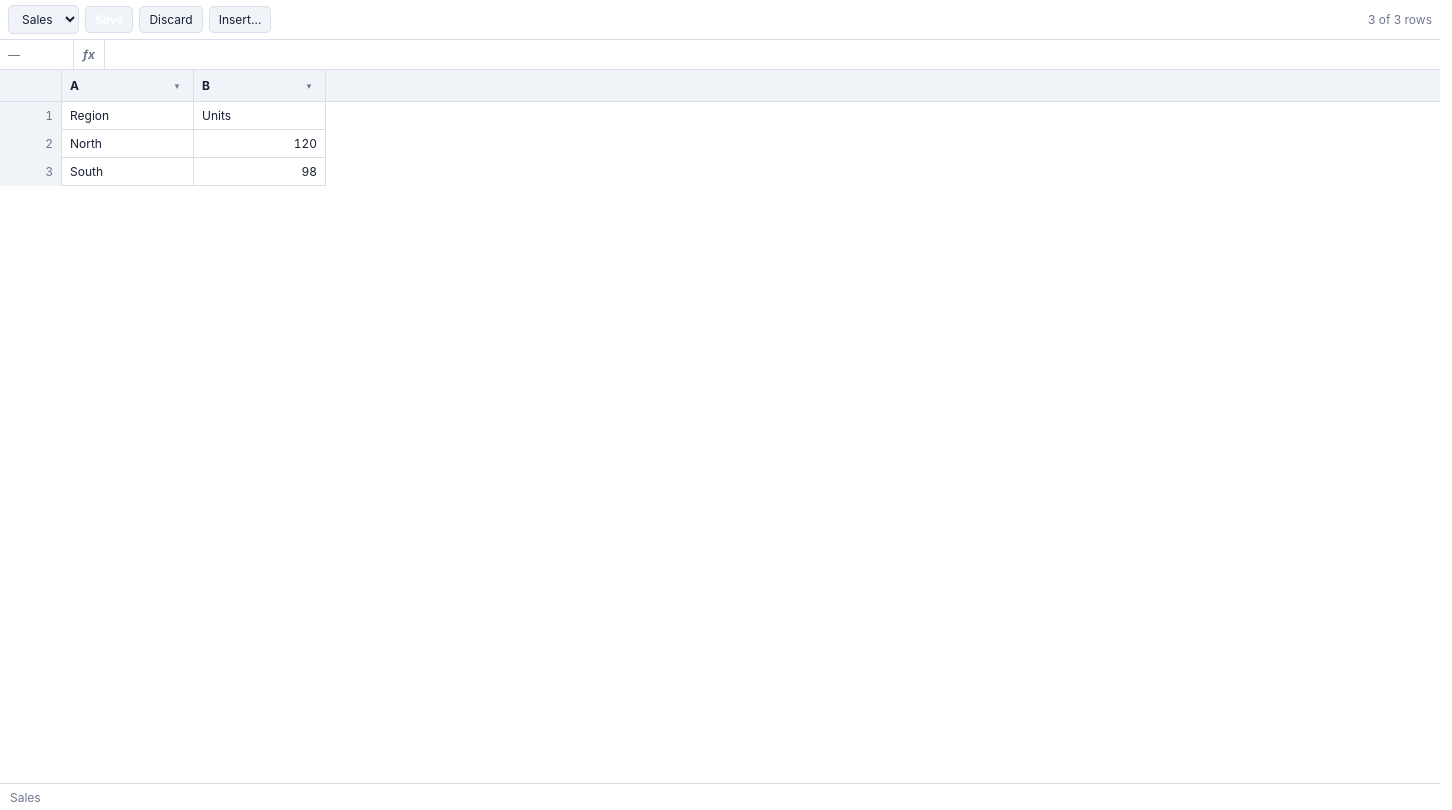
Test: SpreadsheetViewer › starts editing with the typed key without the browser typing it twice
Expected: the text "Region" is shown, left=62, top=102, right=194, bottom=130
Click the text "North".
click(128, 144)  # box left=62, top=130, right=194, bottom=158
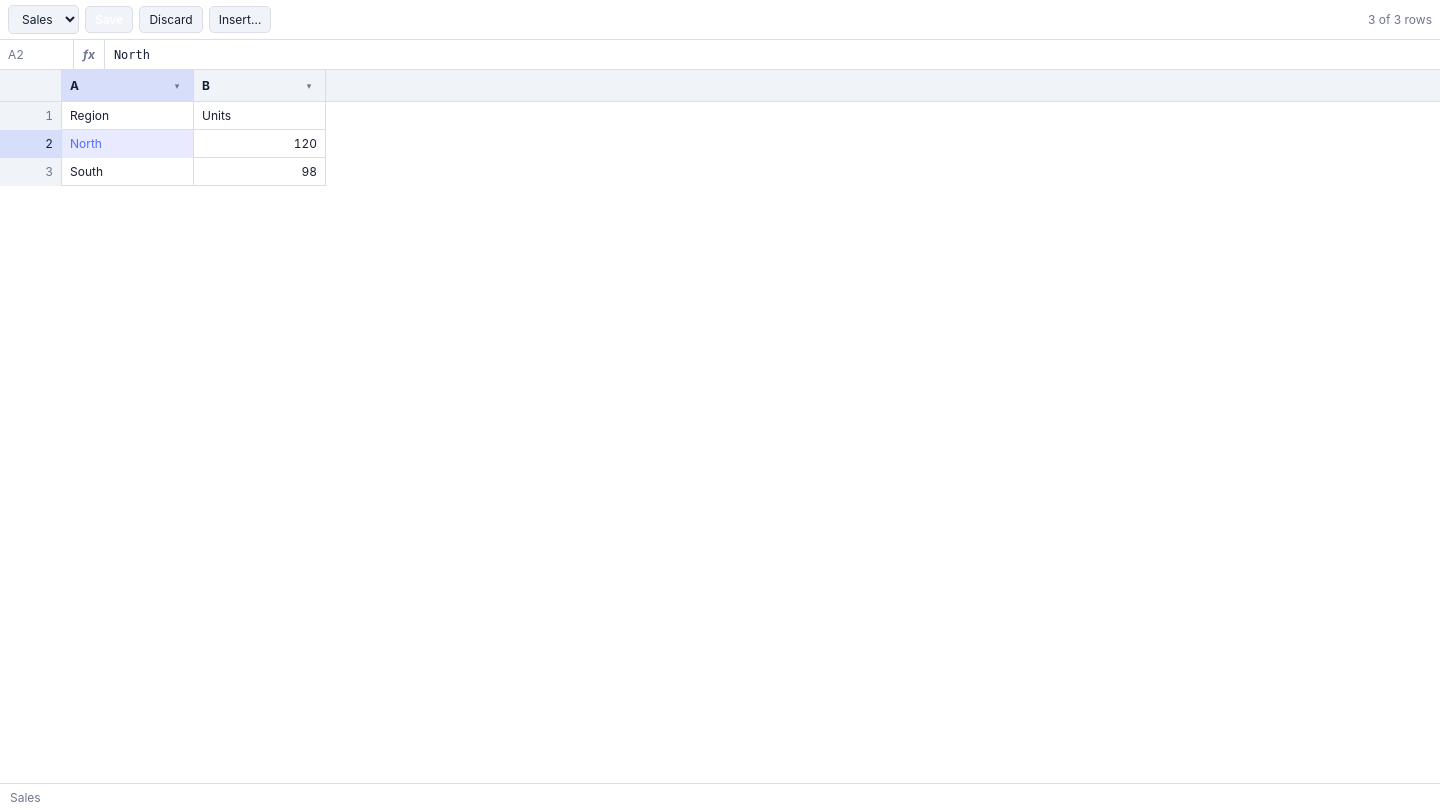
Press W in the element that starts with "Save"
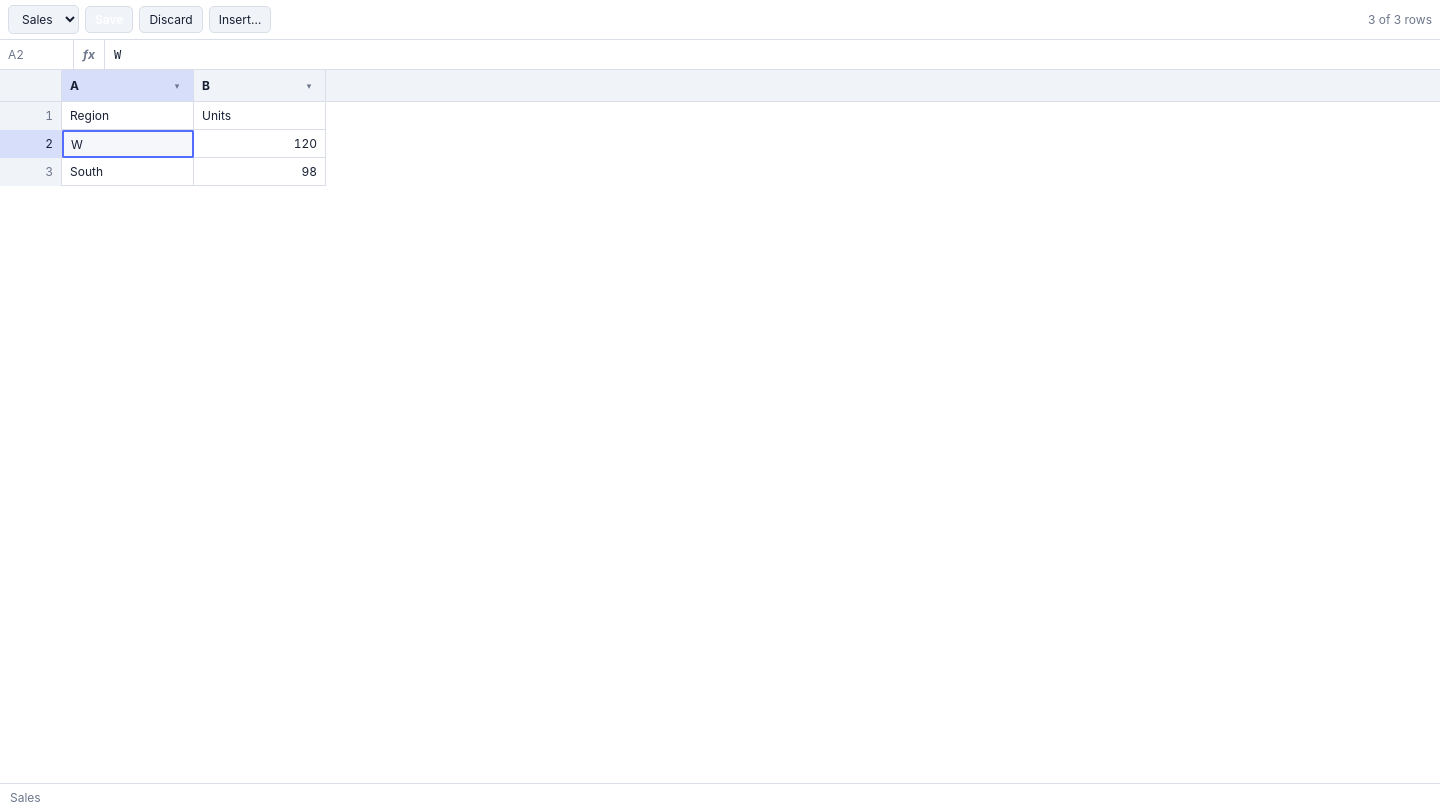
Expected: the field with class "sheet-editor" holds "W", left=62, top=130, right=194, bottom=158
